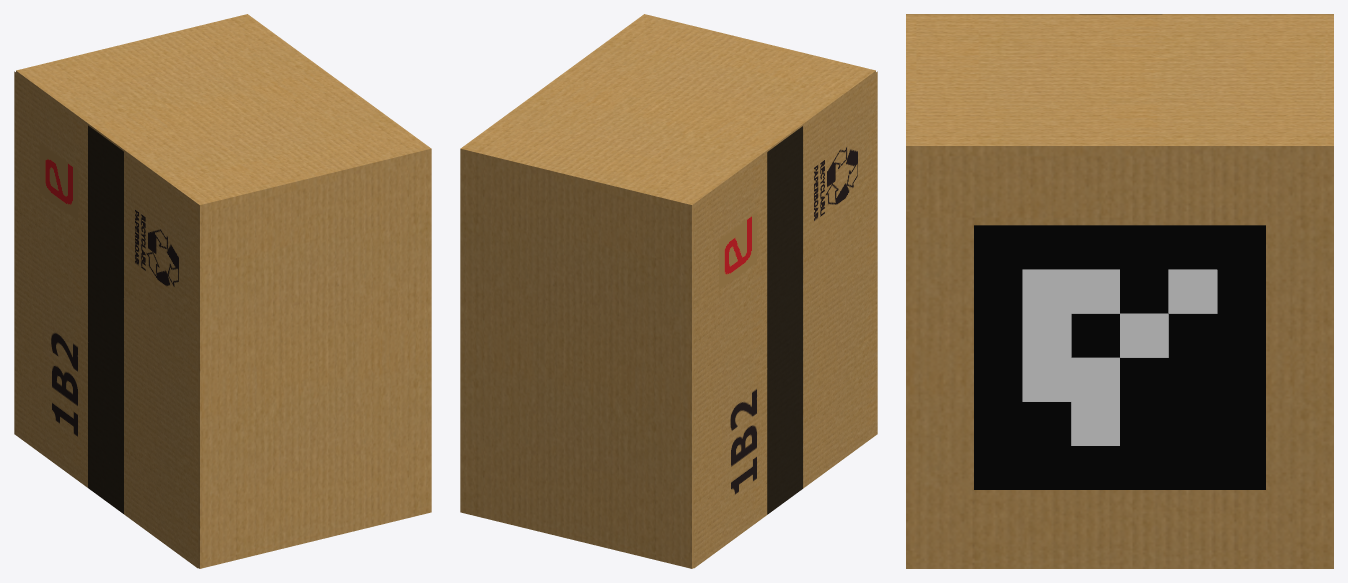
3 views of the same model, side by side, from view 1: azimuth 30°, elevation 25°; view 2: azimuth 150°, elevation 25°; view 3: azimuth 270°, elevation 25° (orthographic). The views are drawn at different scales.
Visible parts, largest first — view 1: Cube, cardboard_bg; view 2: Cube, cardboard_bg; view 3: Cube, aruco_tag.
Boxes of the visible parts, box(x1,y1,x2,y2) form: Cube: box(16, 14, 431, 568); cardboard_bg: box(14, 71, 198, 568); Cube: box(460, 14, 875, 568); cardboard_bg: box(693, 71, 877, 568); Cube: box(906, 14, 1333, 568); aruco_tag: box(974, 225, 1265, 489).
Bounding box in the file's own units: 0.1615 × 0.22 × 0.24.
3 materials, 3 textured.
